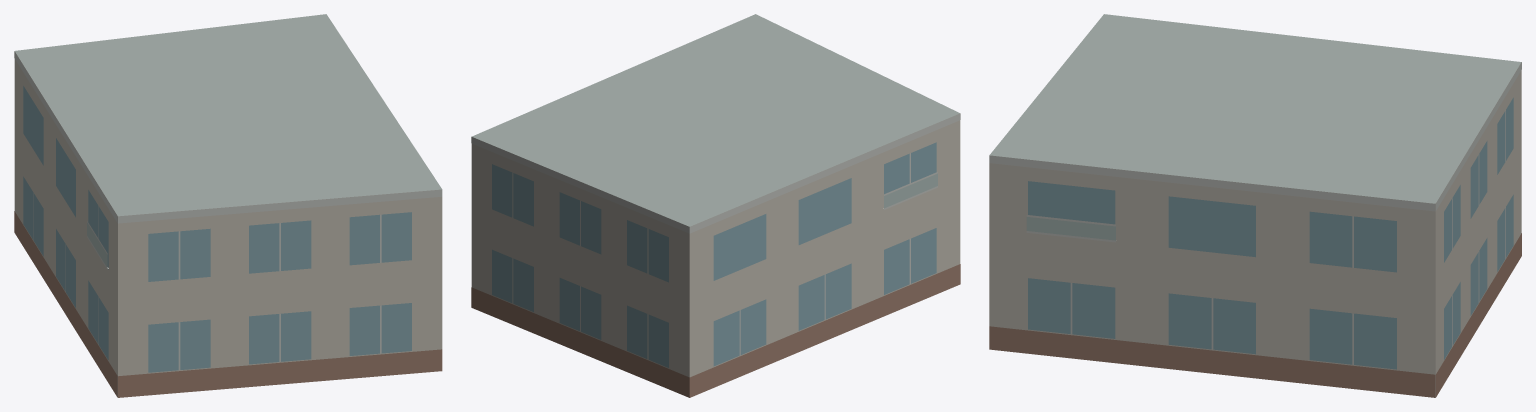
The model's file is survey-upis-32940944.glb.
3 renders of one model, left to right at view 1: azimuth 30°, elevation 25°; view 2: azimuth 150°, elevation 25°; view 3: azimuth 270°, elevation 25°, orthographic. The views are drawn at different scales.
Parts seen in each view (by area): view 1: survey-upis-32940944.tmp; view 2: survey-upis-32940944.tmp; view 3: survey-upis-32940944.tmp.
Boxes of the visible parts, x1,y1,x2,y2 form: survey-upis-32940944.tmp: [14, 14, 442, 397]; survey-upis-32940944.tmp: [471, 14, 960, 397]; survey-upis-32940944.tmp: [989, 14, 1521, 397].
Bounding box in the file's own units: 12.8 × 6.1 × 15.18.
